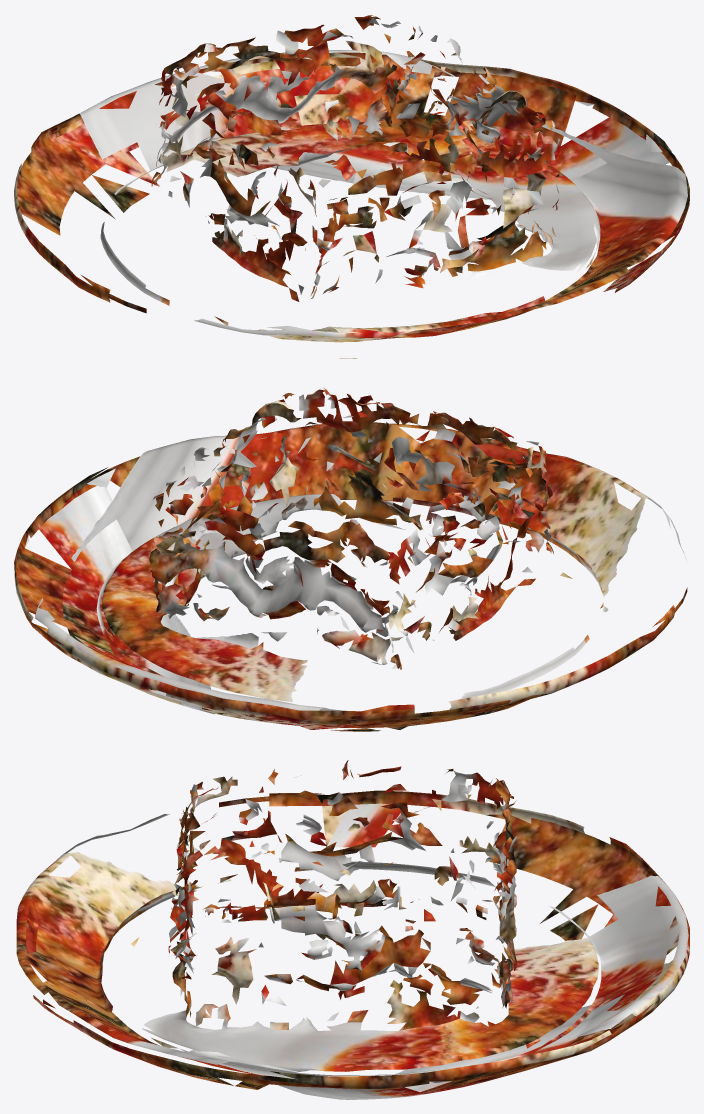
File: lasagna_biancini.fbx
3 renders of one model, top to bottom at view 1: azimuth 30°, elevation 25°; view 2: azimuth 150°, elevation 25°; view 3: azimuth 270°, elevation 25°, orthographic.
Parts seen in each view (by area): view 1: meshes[0]; view 2: meshes[0]; view 3: meshes[0].
Part boxes in pixels (bbox=[...]): meshes[0]: bbox=[14, 15, 689, 358]; meshes[0]: bbox=[14, 387, 687, 731]; meshes[0]: bbox=[16, 760, 689, 1099].
Size of the model in its own units: 99.8 by 30.27 by 99.8.
